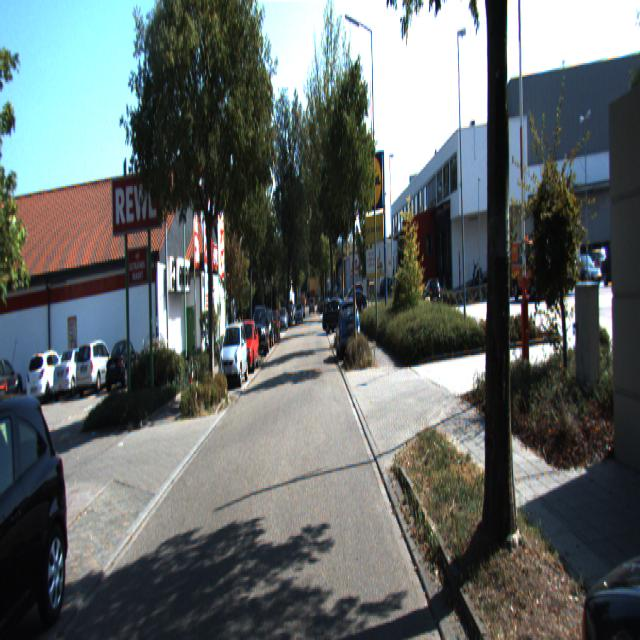Car: (0, 371, 75, 638), (75, 338, 120, 398), (25, 351, 73, 407), (53, 347, 96, 401), (105, 340, 144, 399), (219, 323, 248, 389), (336, 298, 360, 359), (234, 318, 259, 373), (251, 306, 270, 358)
